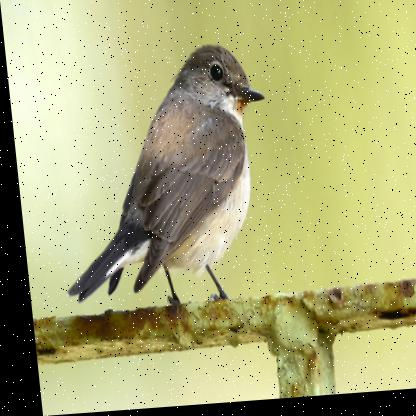Burung: (40, 44, 281, 324)
